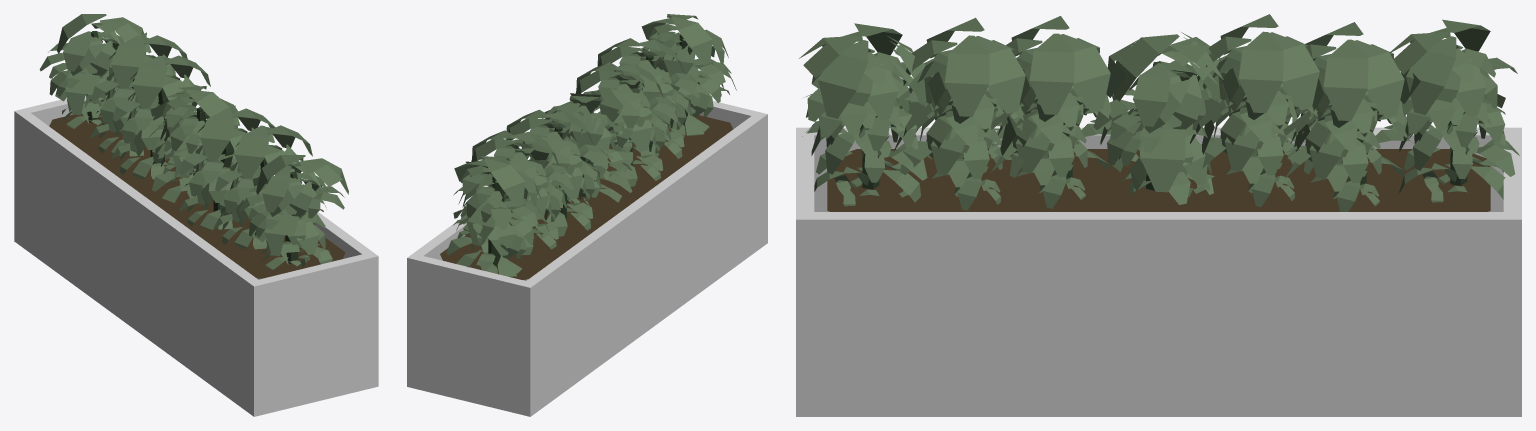
File: saksi_bitkili_100x30x30.glb
3 views of the same model, side by side, from view 1: azimuth 30°, elevation 25°; view 2: azimuth 150°, elevation 25°; view 3: azimuth 270°, elevation 25° (orthographic). The views are drawn at different scales.
Visible parts, largest first — view 1: Planter_100x30x30_Straight, Plant_7_Leaves, Dirt, Plant_1_Leaves, Plant_3_Leaves, Plant_5_Leaves, Plant_6_Leaves, Plant_4_Leaves, Plant_2_Leaves; view 2: Planter_100x30x30_Straight, Plant_1_Leaves, Dirt, Plant_5_Leaves, Plant_3_Leaves, Plant_6_Leaves, Plant_7_Leaves, Plant_2_Leaves, Plant_4_Leaves; view 3: Planter_100x30x30_Straight, Dirt, Plant_6_Leaves, Plant_3_Leaves, Plant_1_Leaves, Plant_7_Leaves, Plant_4_Leaves, Plant_2_Leaves, Plant_5_Leaves.
Boxes of the visible parts, x1=… form: Planter_100x30x30_Straight: x1=14, y1=95, x2=378, y2=416; Plant_7_Leaves: x1=239, y1=155, x2=348, y2=269; Dirt: x1=49, y1=113, x2=345, y2=278; Plant_1_Leaves: x1=39, y1=14, x2=149, y2=128; Plant_3_Leaves: x1=112, y1=55, x2=210, y2=184; Plant_5_Leaves: x1=173, y1=98, x2=275, y2=230; Plant_6_Leaves: x1=214, y1=125, x2=312, y2=249; Plant_4_Leaves: x1=152, y1=86, x2=237, y2=202; Plant_2_Leaves: x1=84, y1=32, x2=187, y2=156; Planter_100x30x30_Straight: x1=407, y1=101, x2=767, y2=416; Plant_1_Leaves: x1=446, y1=156, x2=549, y2=280; Dirt: x1=440, y1=115, x2=733, y2=279; Plant_5_Leaves: x1=570, y1=62, x2=679, y2=186; Plant_3_Leaves: x1=506, y1=109, x2=609, y2=236; Plant_6_Leaves: x1=597, y1=36, x2=700, y2=158; Plant_7_Leaves: x1=641, y1=14, x2=736, y2=138; Plant_2_Leaves: x1=466, y1=130, x2=575, y2=254; Plant_4_Leaves: x1=541, y1=96, x2=632, y2=203; Planter_100x30x30_Straight: x1=796, y1=127, x2=1521, y2=416; Dirt: x1=827, y1=149, x2=1490, y2=211; Plant_6_Leaves: x1=887, y1=17, x2=1037, y2=210; Plant_3_Leaves: x1=1181, y1=14, x2=1331, y2=206; Plant_1_Leaves: x1=1389, y1=19, x2=1519, y2=202; Plant_7_Leaves: x1=799, y1=23, x2=931, y2=206; Plant_4_Leaves: x1=1093, y1=34, x2=1223, y2=204; Plant_2_Leaves: x1=1283, y1=22, x2=1420, y2=211; Plant_5_Leaves: x1=990, y1=16, x2=1137, y2=208.
Size of the model in its own units: 0.3 by 0.5264 by 1.
